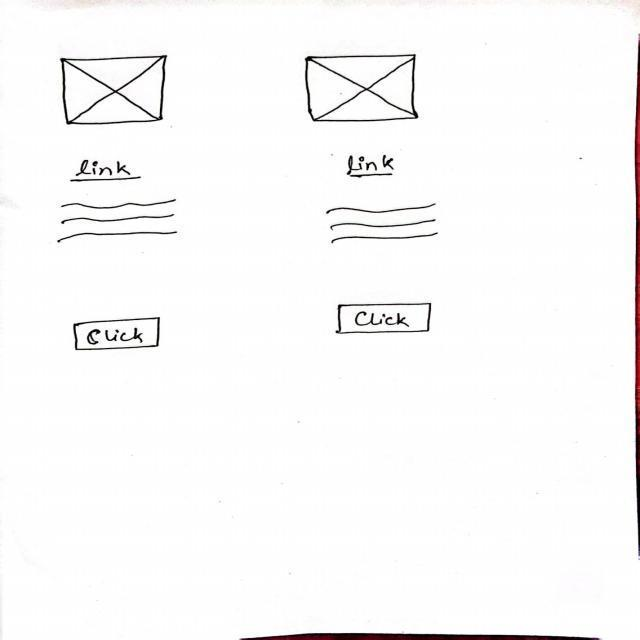button: (64, 308, 172, 364), (334, 290, 441, 344)
